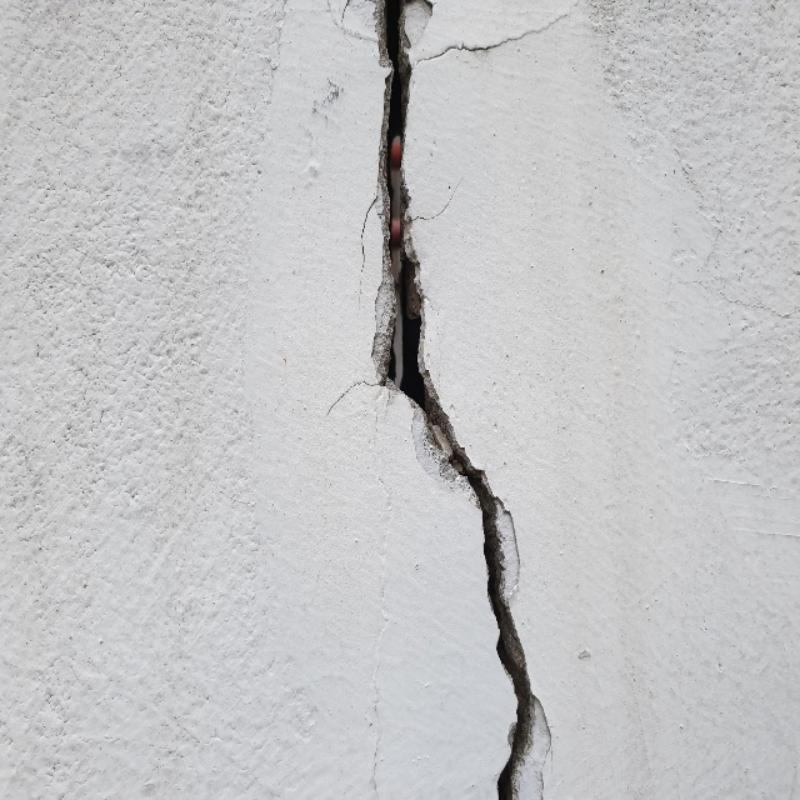crack: (382, 0, 531, 798)
